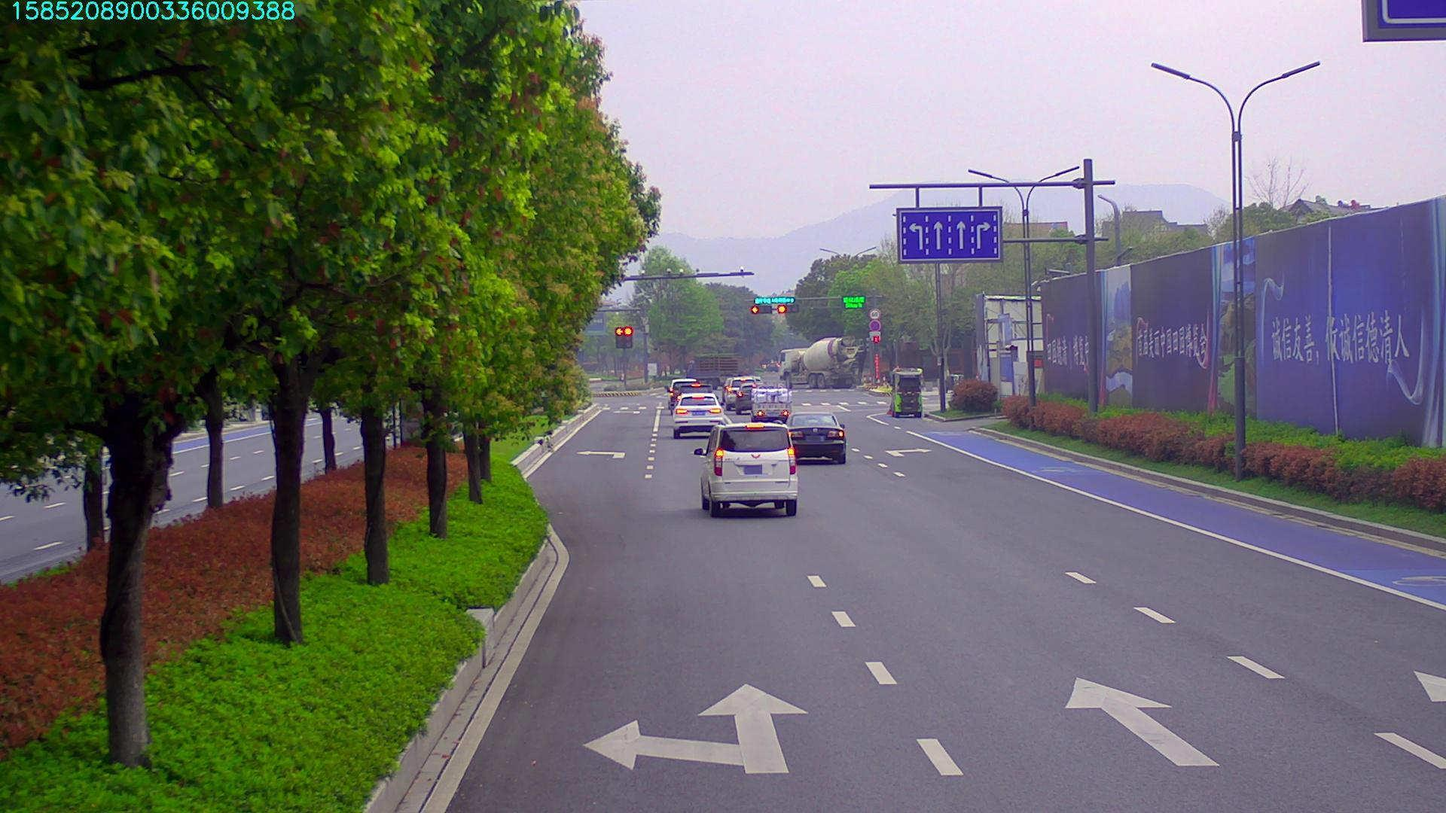red: (749, 303, 771, 315), (773, 303, 792, 312)
wait_on: (752, 293, 791, 302)
